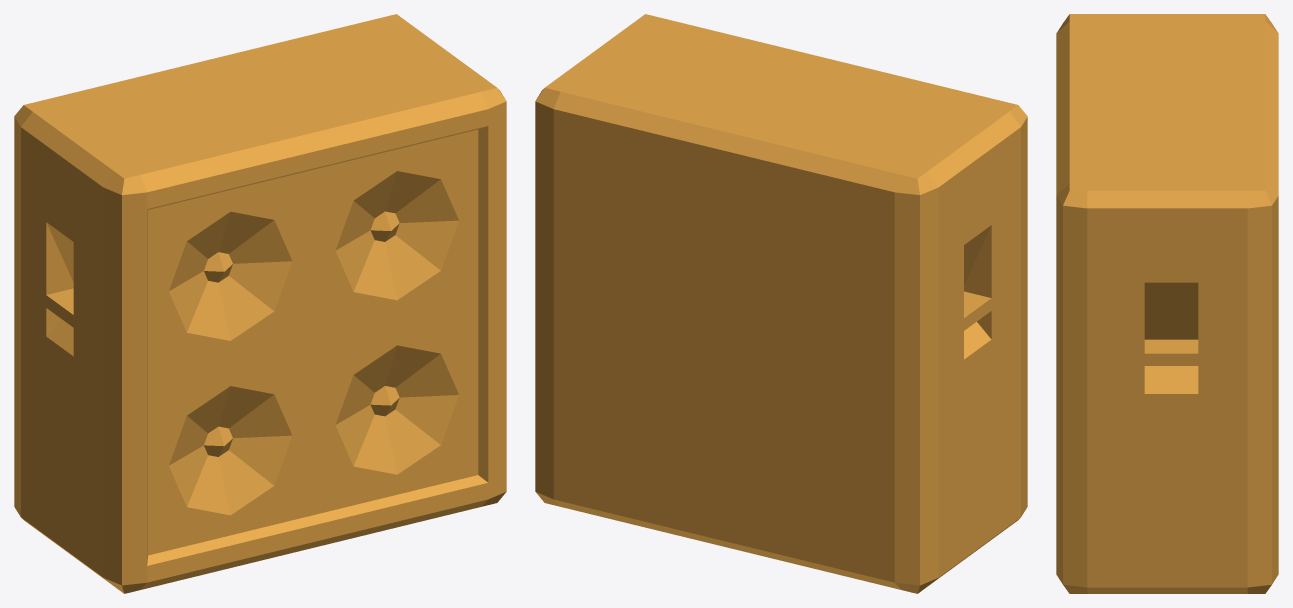
File: speaker-guitar-nocover.fbx
3 renders of one model, left to right at view 1: azimuth 30°, elevation 25°; view 2: azimuth 150°, elevation 25°; view 3: azimuth 270°, elevation 25°, orthographic. The views are drawn at different scales.
Parts seen in each view (by area): view 1: speaker-guitar-nocover; view 2: speaker-guitar-nocover; view 3: speaker-guitar-nocover.
Boxes of the visible parts, left/top/right/bottom form: speaker-guitar-nocover: left=14, top=14, right=506, bottom=593; speaker-guitar-nocover: left=535, top=14, right=1027, bottom=593; speaker-guitar-nocover: left=1056, top=14, right=1278, bottom=593.
Bounding box in the file's own units: 1 × 1 × 0.5.
